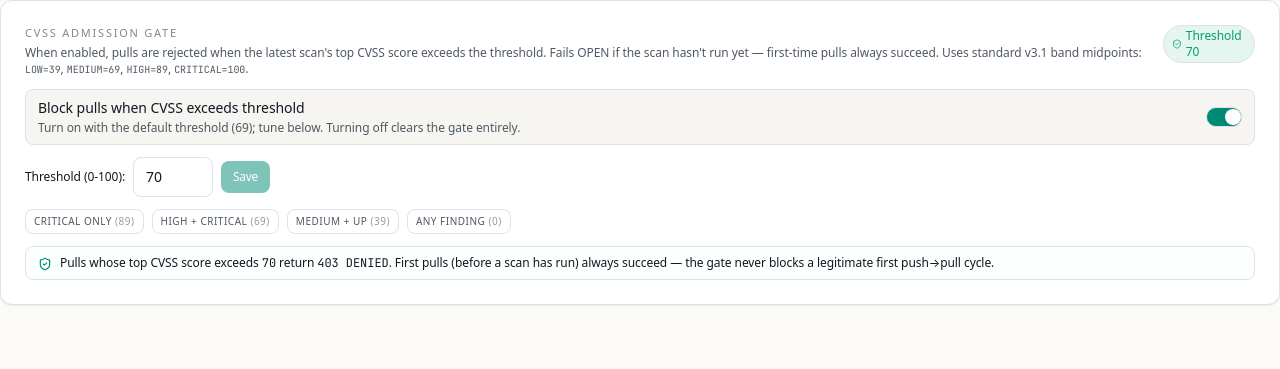
RepoCVSSPolicySection › rejects out-of-range input with inline validation and no mutation
Replace the text in the number field with "150" at [173, 177], box [133,157,213,197]
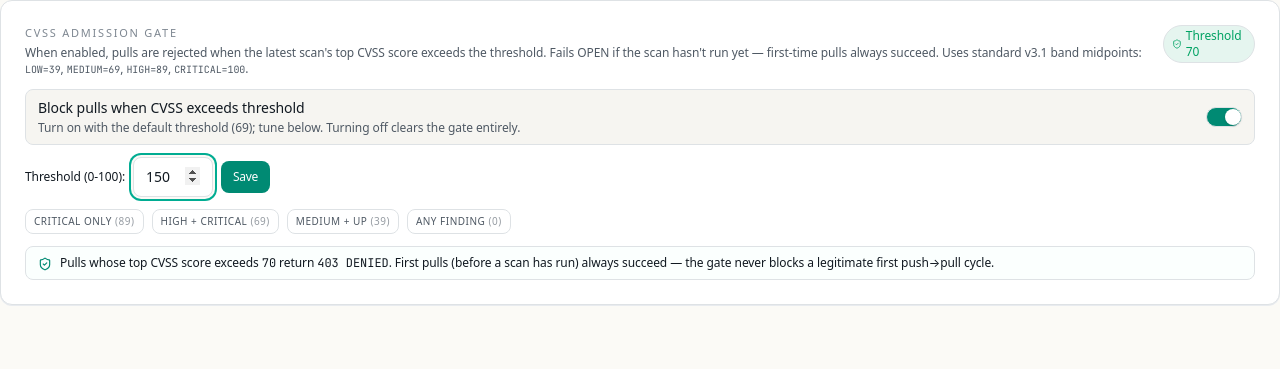
Click the button "Save" at [246, 177], box [221,161,270,193]
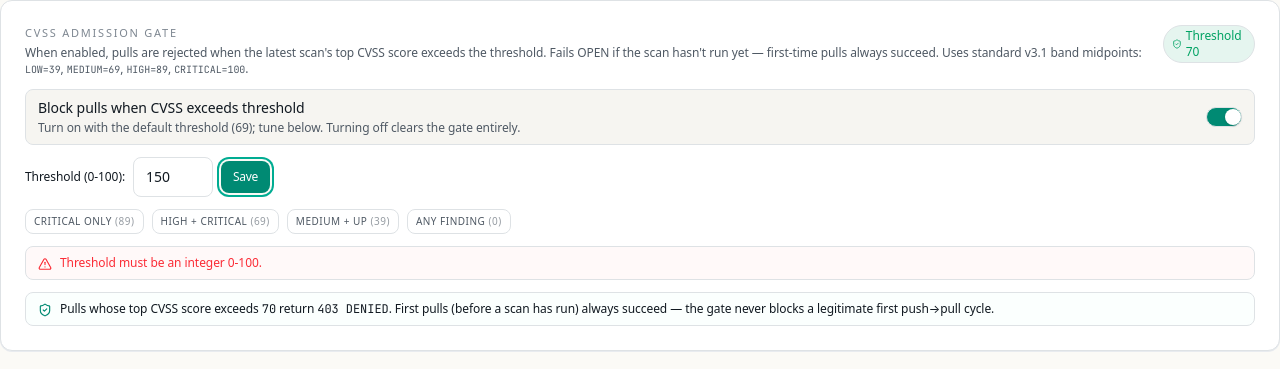
Now the text "Threshold must be an integer 0-100." is shown, box [25,246,1255,280]
